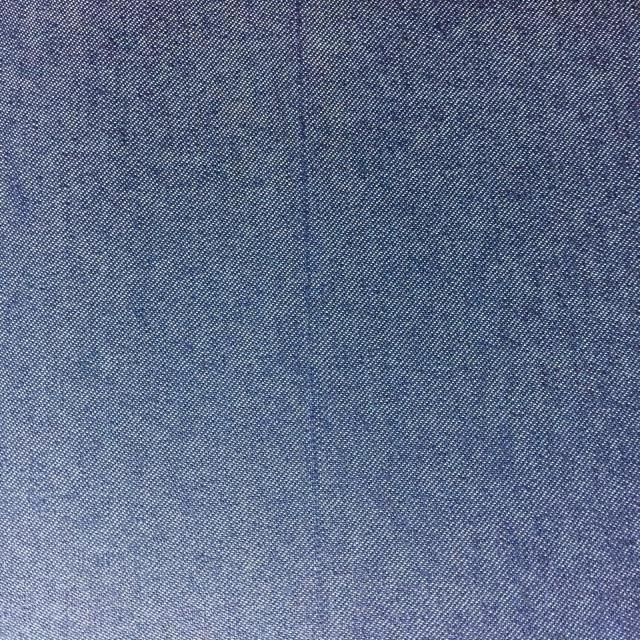Line: (293, 0, 327, 632)
